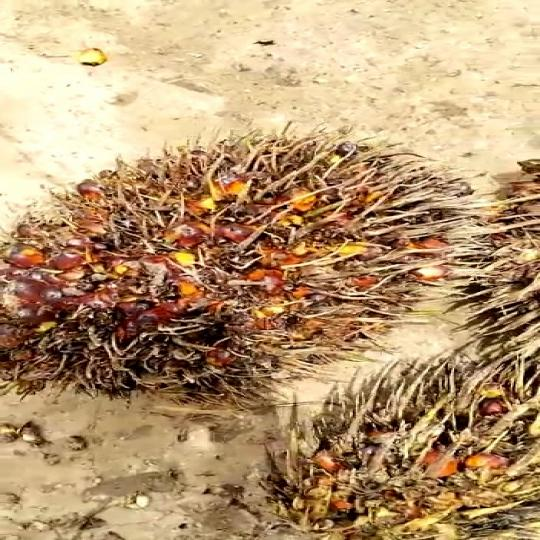terlalu masak: (0, 107, 485, 432)
